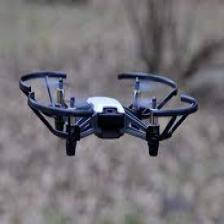drone: (20, 72, 196, 156)
